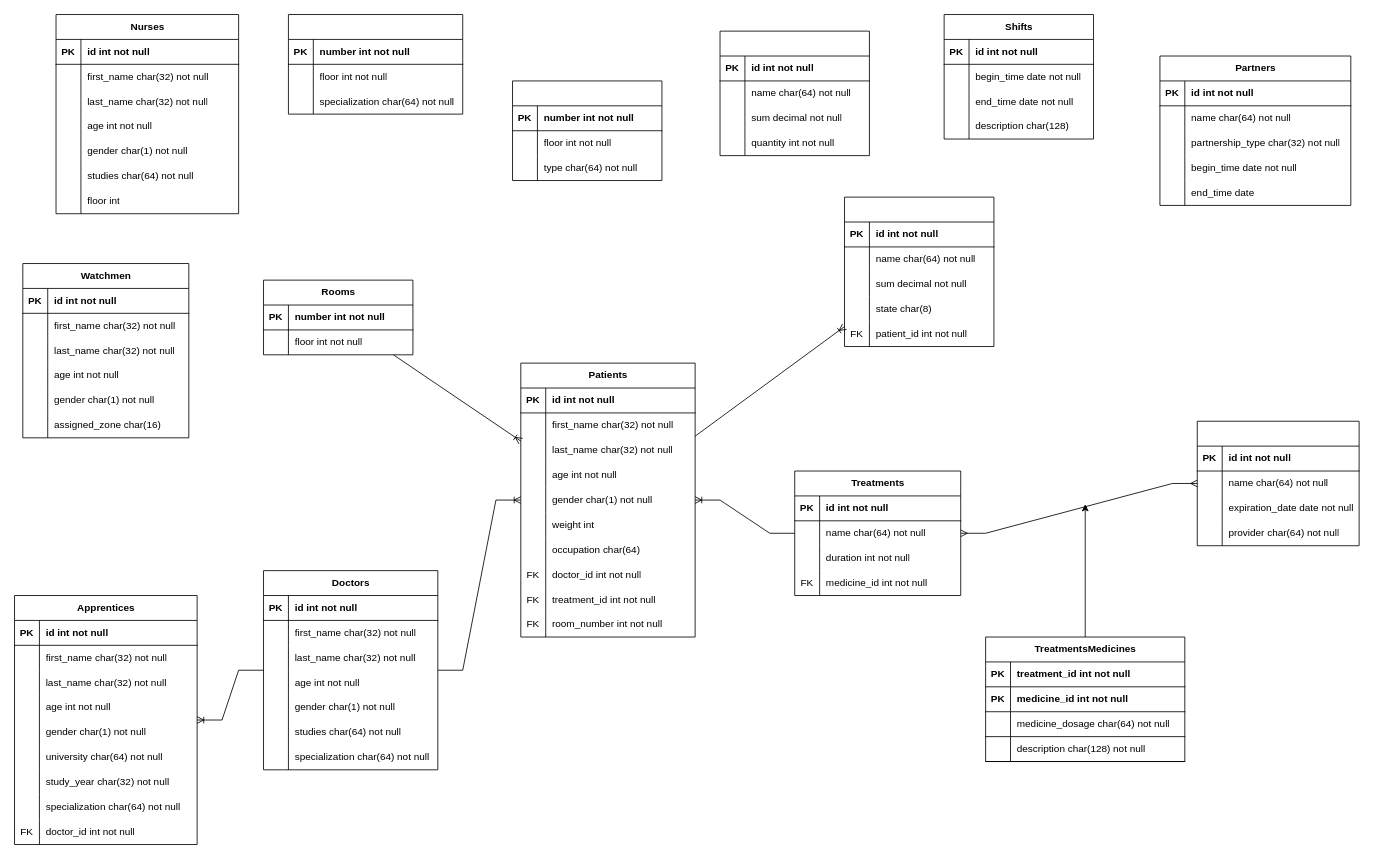
Image size: 1374x859. Some labels were removed from this diagram. Each missing label, with the box of its shape:
Bills: (844, 196, 994, 347)
ICUs: (512, 80, 662, 181)
Medicines: (1196, 420, 1359, 546)
OperationTheaters: (288, 14, 463, 114)
Purchases: (719, 30, 869, 156)
